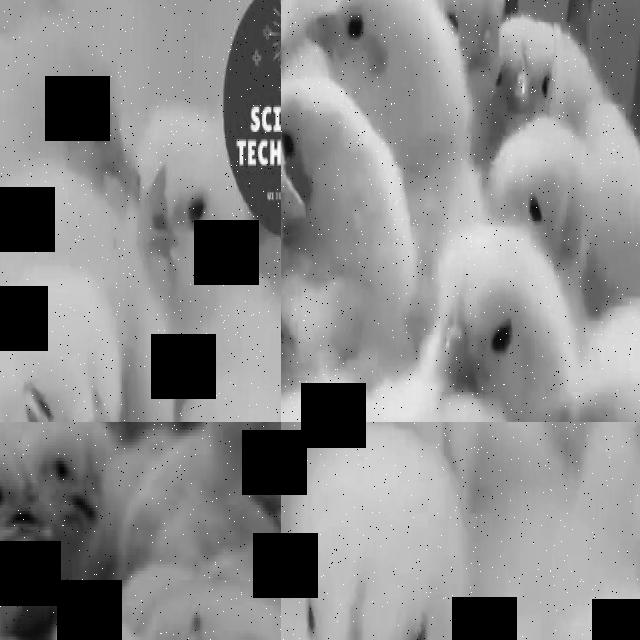chicks: (294, 465, 456, 640), (128, 102, 245, 293), (426, 231, 554, 402), (28, 34, 137, 192), (8, 301, 139, 422), (508, 110, 594, 280), (303, 0, 458, 86), (281, 78, 363, 220), (519, 422, 640, 499), (29, 422, 110, 535), (0, 423, 53, 580), (430, 0, 511, 92), (555, 370, 640, 422), (367, 390, 505, 422), (251, 445, 281, 571), (281, 178, 297, 375), (526, 39, 568, 114), (281, 102, 307, 221), (493, 37, 521, 124), (0, 0, 42, 50), (530, 635, 640, 640)
